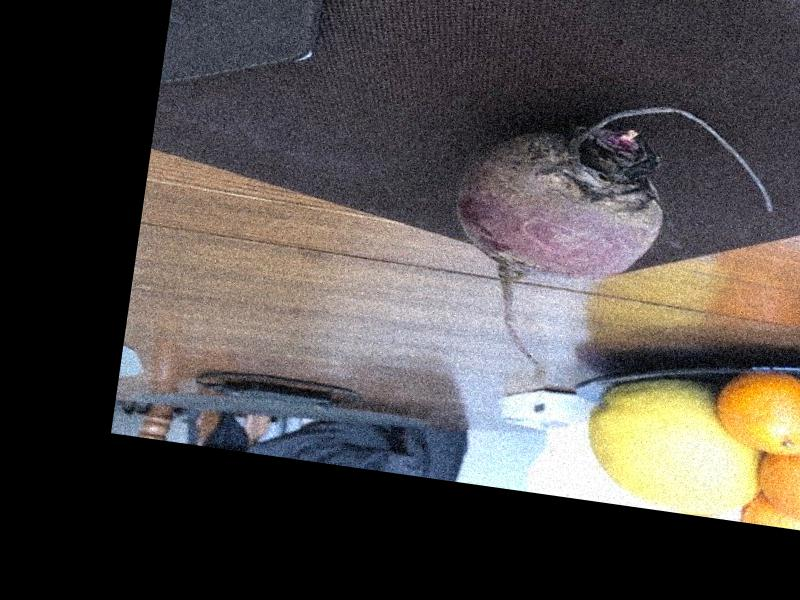Beet: (435, 79, 785, 395)
